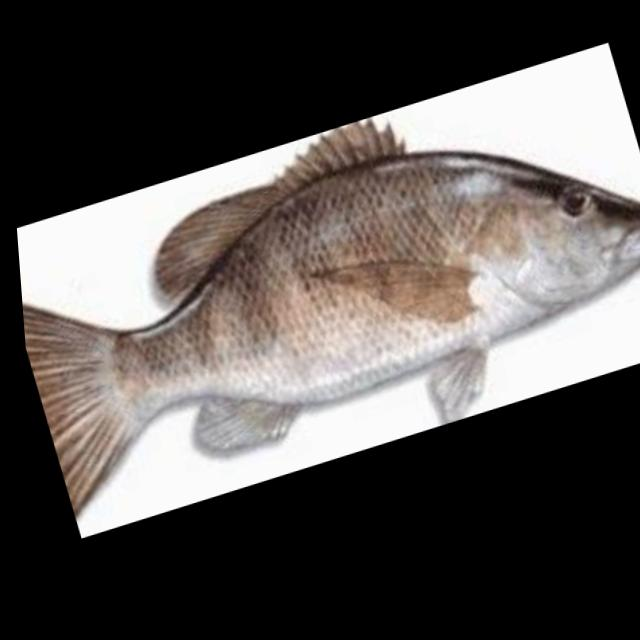Seabass: (7, 37, 640, 541)
